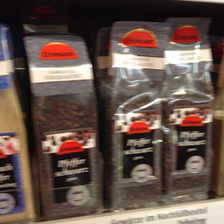spices: (23, 23, 106, 220), (106, 19, 169, 211), (165, 16, 216, 197)
